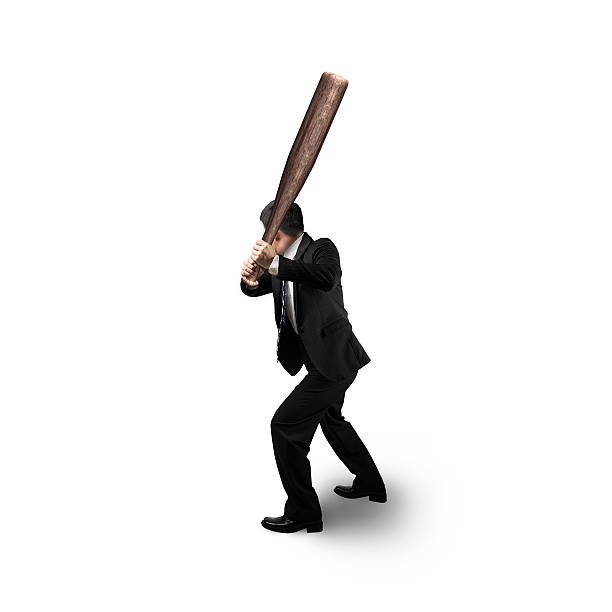bita: (252, 70, 348, 267)
